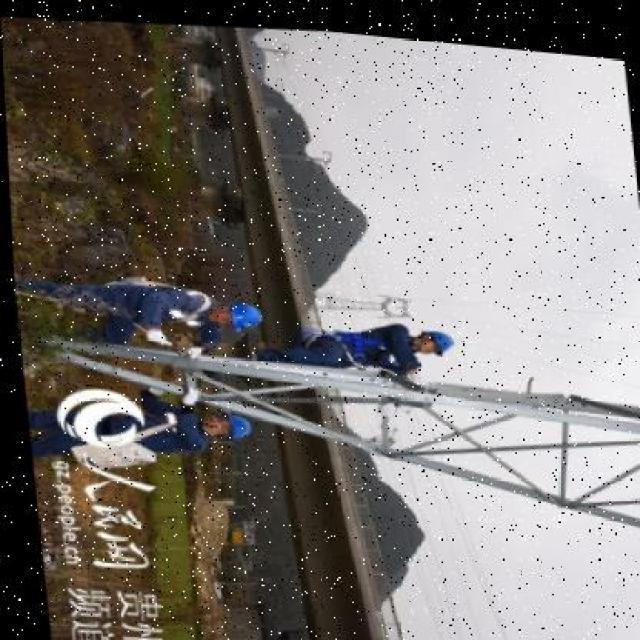helmet: (216, 288, 261, 334), (417, 316, 465, 352), (206, 402, 249, 439)
